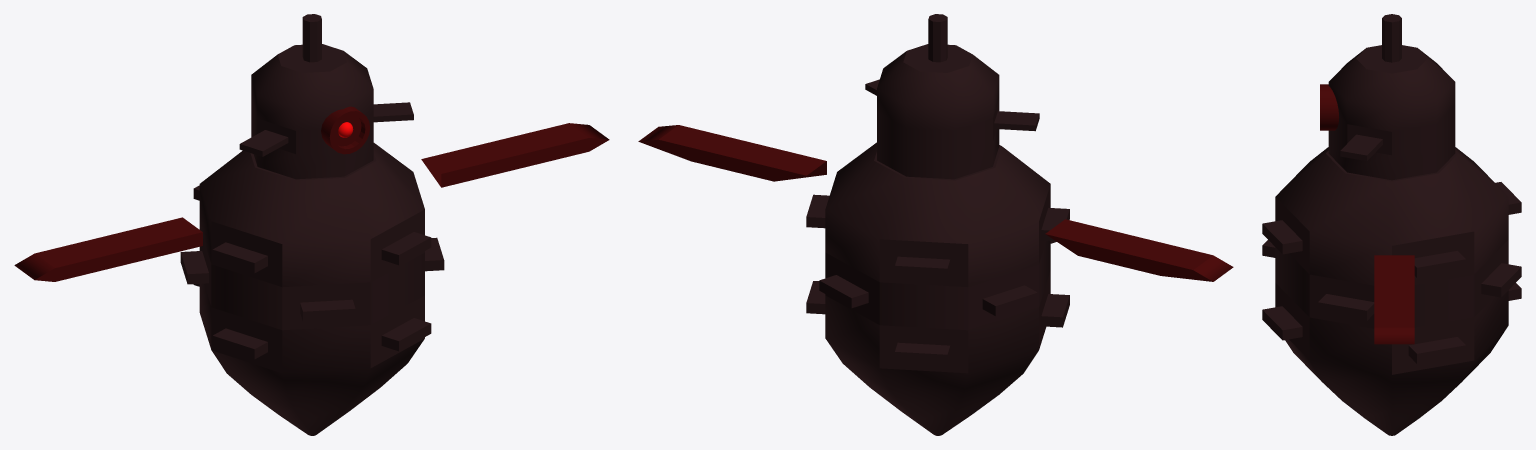
Rendered from ProtoRobot2.fbx.
3 views of the same model, side by side, from view 1: azimuth 30°, elevation 25°; view 2: azimuth 150°, elevation 25°; view 3: azimuth 270°, elevation 25° (orthographic).
Visible parts, largest first — view 1: Cylinder001, Cylinder002, Box001, Box002, Cylinder003; view 2: Cylinder001, Cylinder002, Box001, Box002; view 3: Cylinder001, Cylinder002, Box002, Cylinder003.
Boxes of the visible parts, left/top/right/bottom form: Cylinder001: left=180, top=143, right=444, bottom=435; Cylinder002: left=239, top=14, right=413, bottom=179; Box001: left=14, top=217, right=202, bottom=281; Box002: left=421, top=123, right=609, bottom=187; Cylinder003: left=321, top=106, right=370, bottom=154; Cylinder001: left=806, top=142, right=1069, bottom=435; Cylinder002: left=865, top=14, right=1039, bottom=179; Box001: left=1045, top=219, right=1233, bottom=281; Box002: left=638, top=125, right=826, bottom=181; Cylinder001: left=1262, top=147, right=1521, bottom=435; Cylinder002: left=1328, top=14, right=1455, bottom=180; Box002: left=1374, top=255, right=1414, bottom=344; Cylinder003: left=1320, top=84, right=1338, bottom=130.
Bounding box in the file's own units: 48.43 × 33.46 × 18.91.
